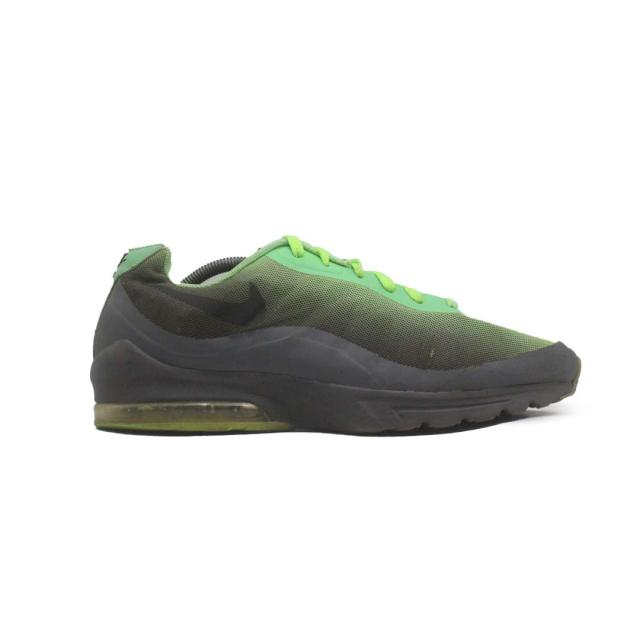heel: (91, 246, 186, 364)
midsole: (90, 340, 580, 436)
uppersole: (173, 236, 580, 391)
